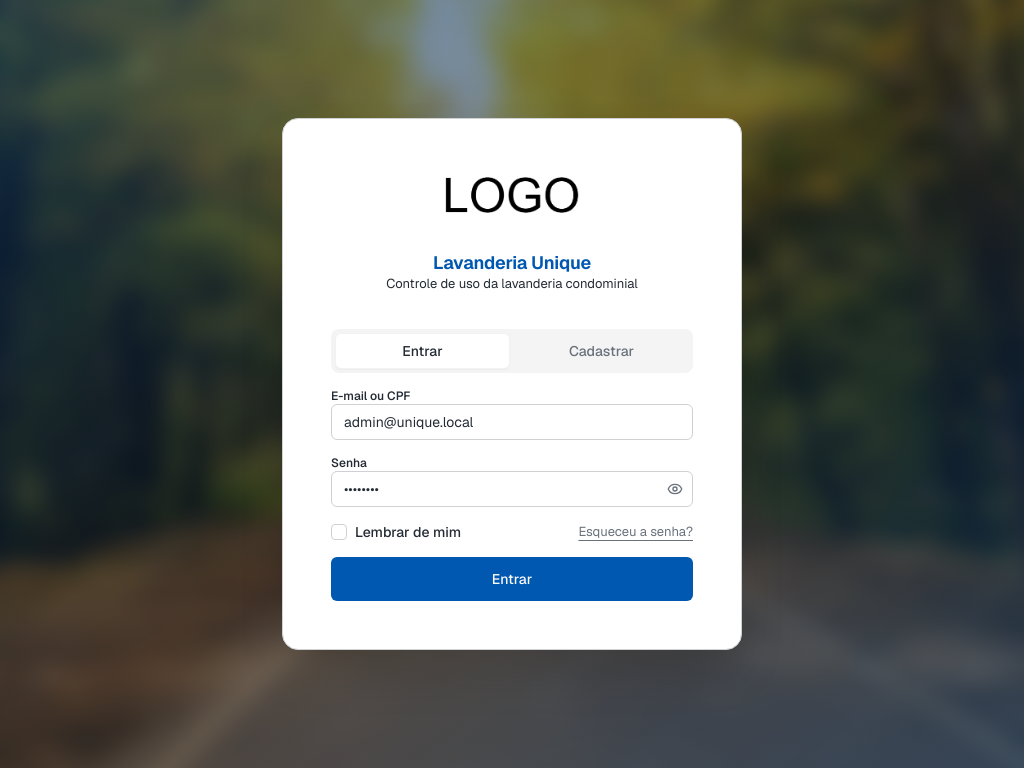
Scenario: Login page › shows error message on failed login
The width and height of the screenshot is (1024, 768).
Step 1. Click the button "Entrar" → (512, 579), box [331,557,693,601]
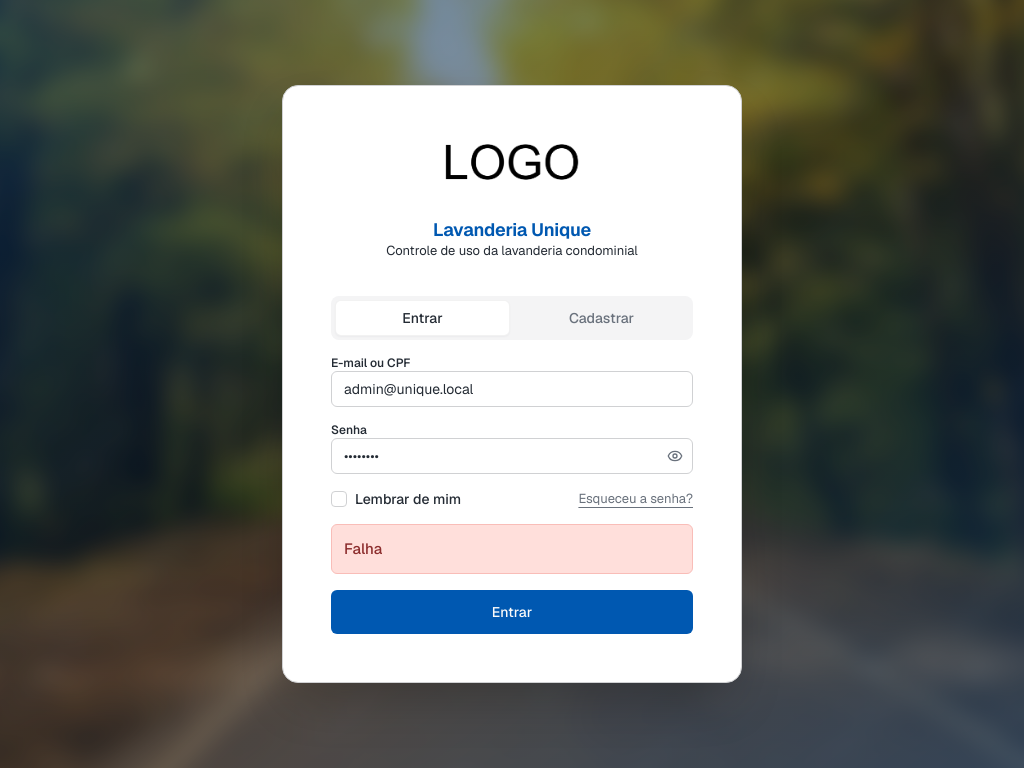
Result: the text "Falha" is shown at [331,524,693,574]
